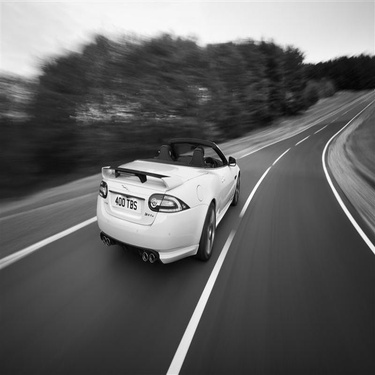car: (84, 137, 248, 268)
